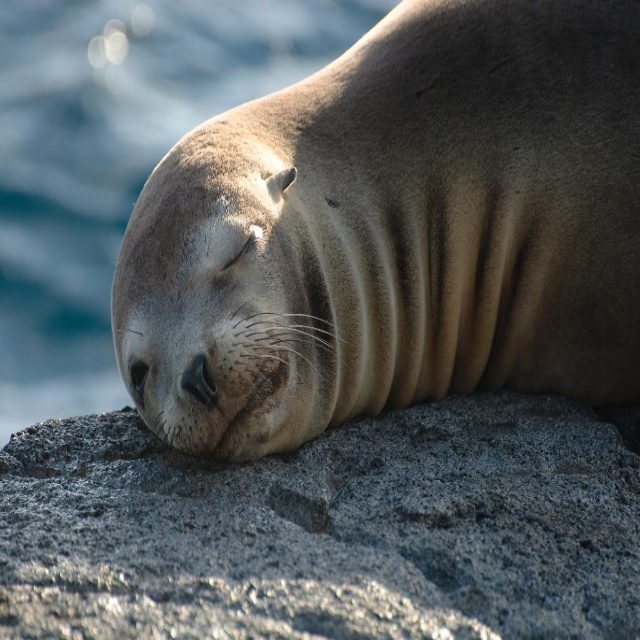Harbor seal: (113, 0, 640, 466)
